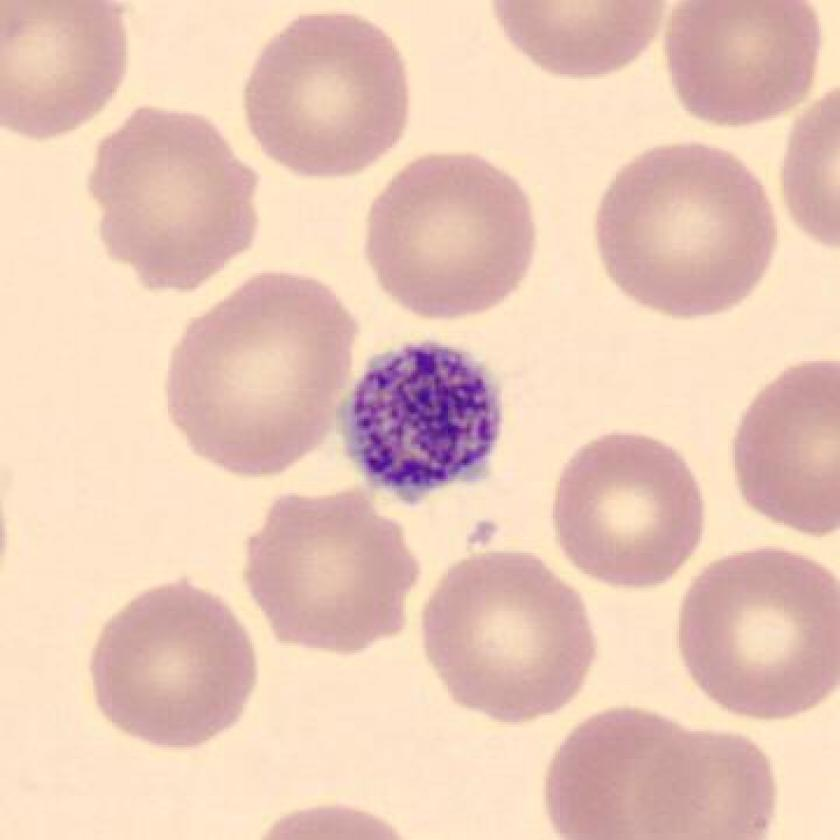platelets: (332, 335, 517, 513)
